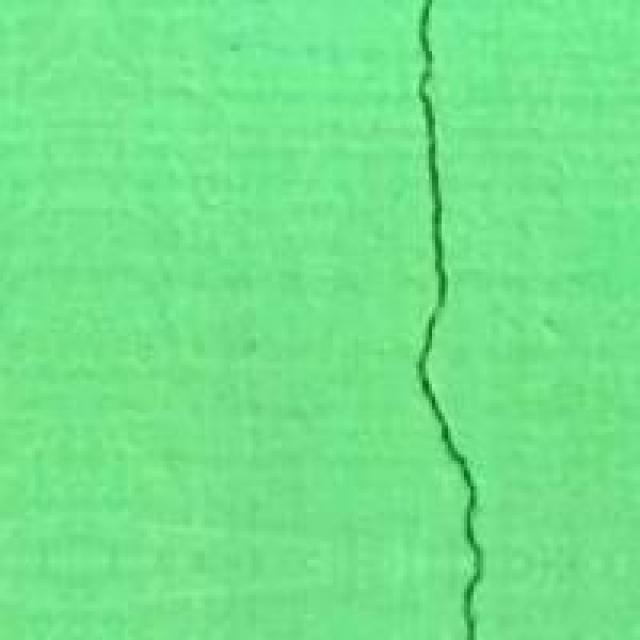Crack: (362, 0, 512, 637)
